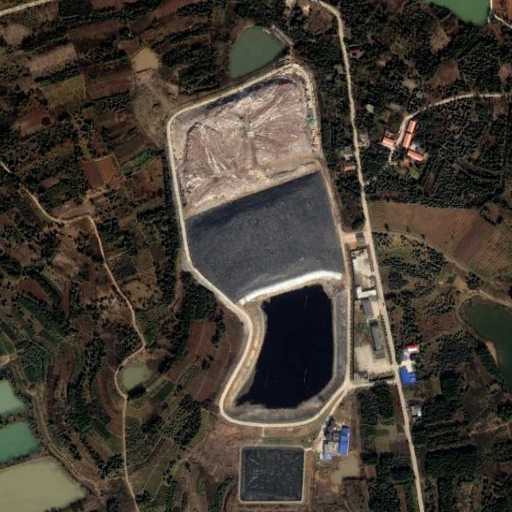lf: (162, 61, 353, 427)
